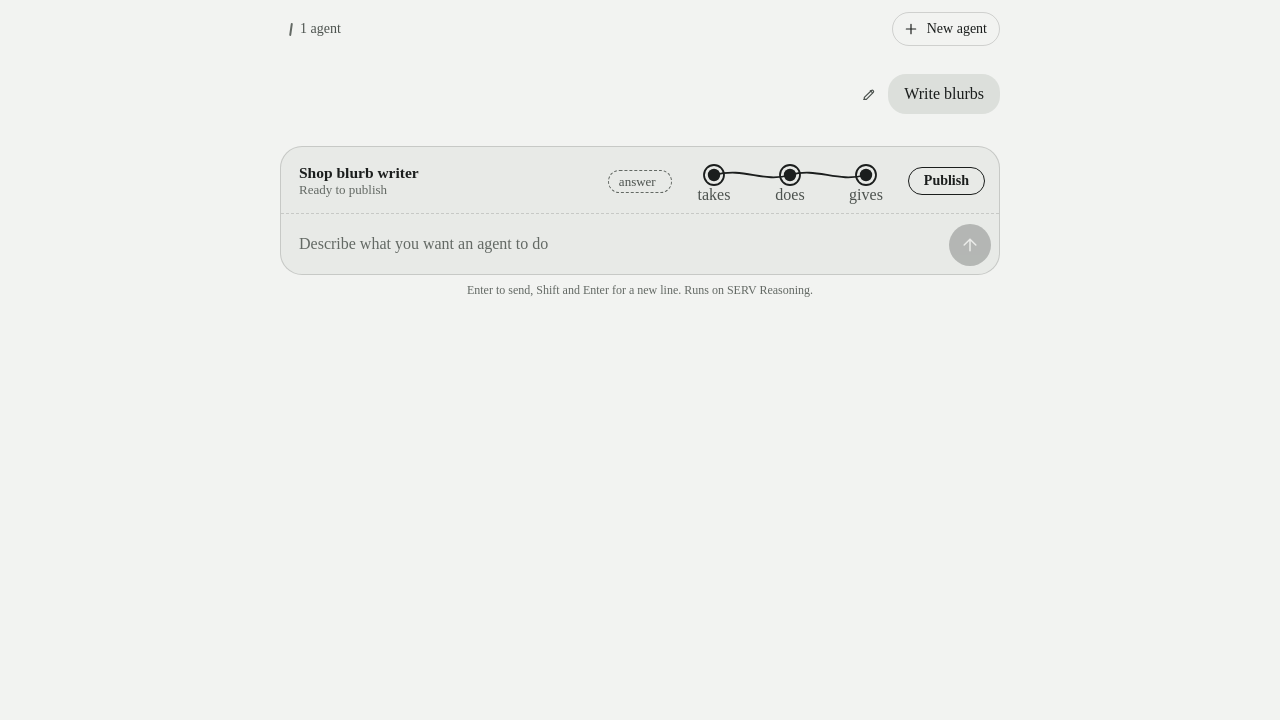
Scenario: publishing from the chat › turns the switch into Publish, confirms on a sheet, and saves the sheet's edits
This screenshot has width=1280, height=720.
Step 1. Click the button "1 agent" → click(315, 29), box [280,15,351,43]
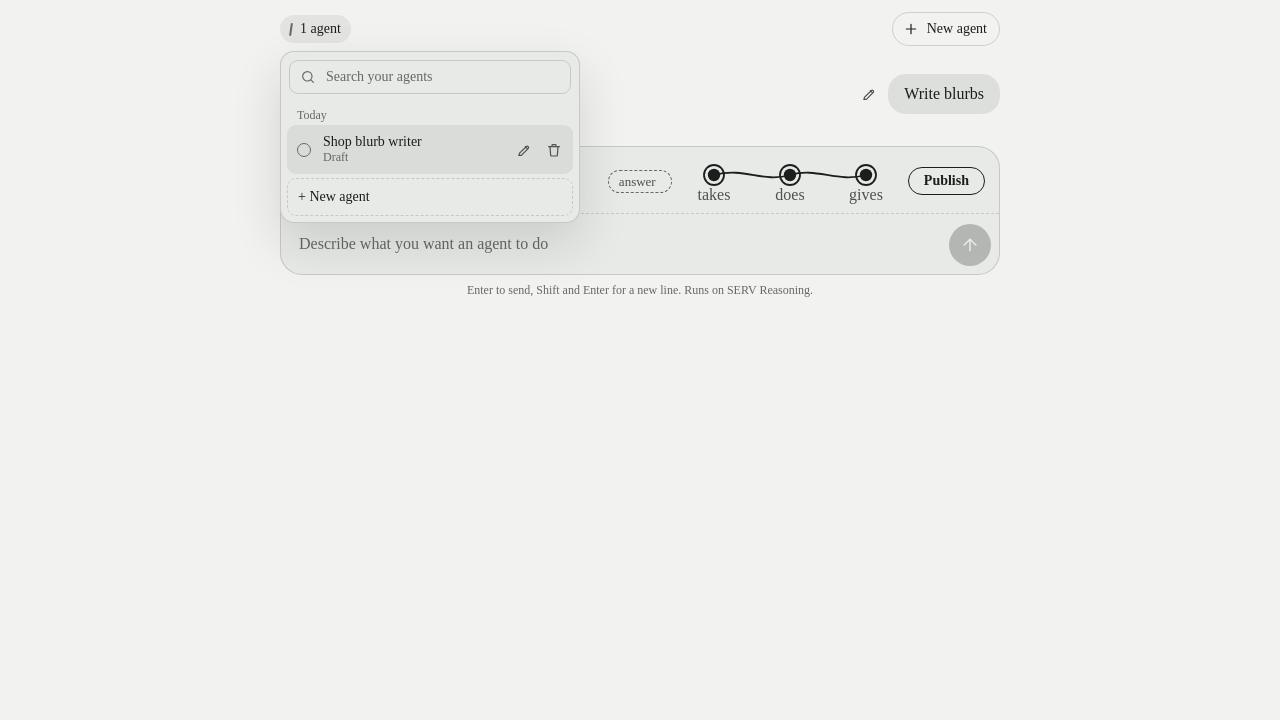
Step 2. Click the button "Shop blurb writer Draft" → click(398, 150), box [287,125,509,174]
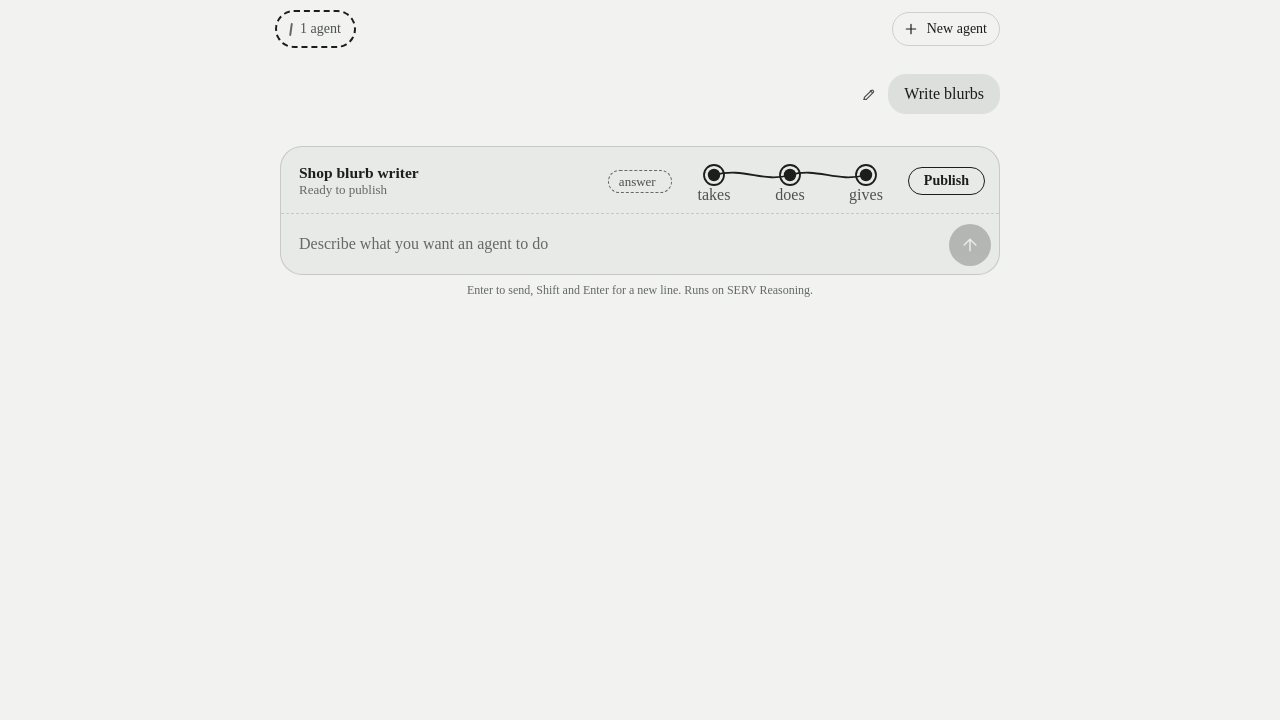
Check: the text "Ready to publish" is shown, box [299,182,387,198]
Step 3. Click the button "Publish" → click(946, 181), box [908,167,985,195]
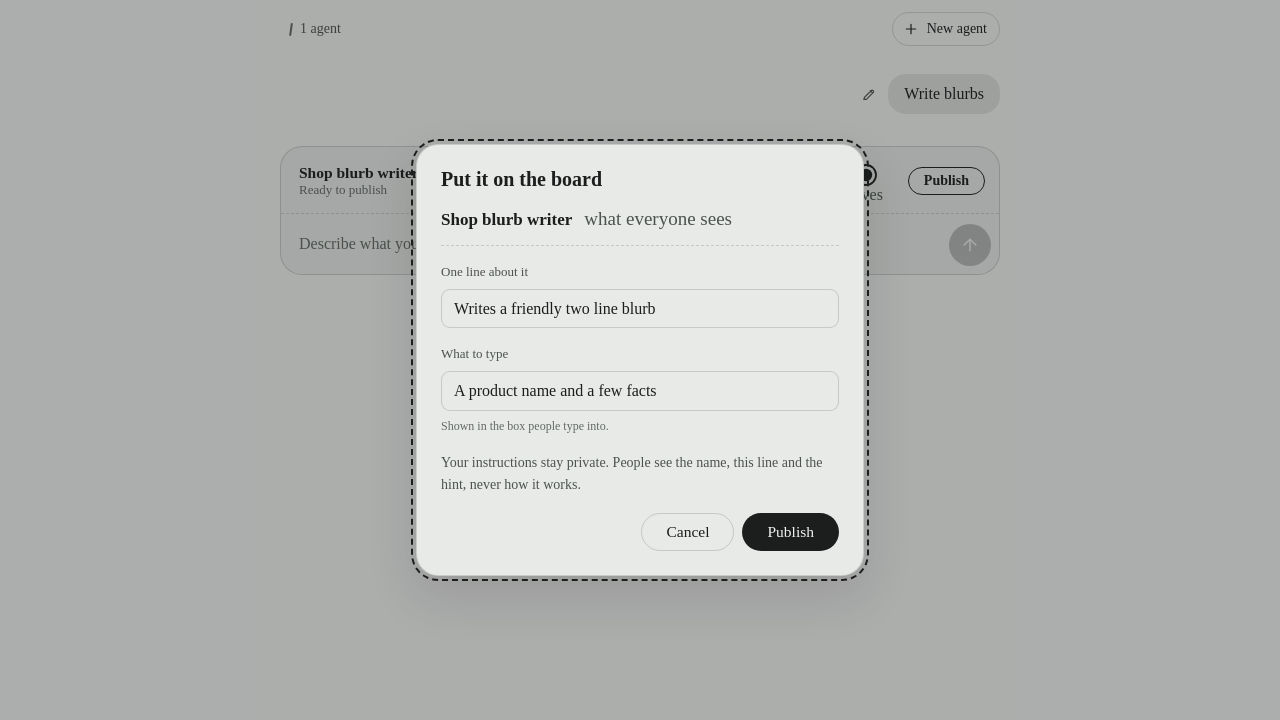
Check: the text "Shop blurb writer" is shown, box [441,206,572,233]
Check: the field labelled "One line about it" holds "Writes a friendly two line blurb"
Check: the field labelled "What to type" holds "A product name and a few facts", box [441,371,839,411]
Step 4. Replace the text in the field labelled "One line about it" with "Warm blurbs" → (640, 309), box [441,289,839,328]
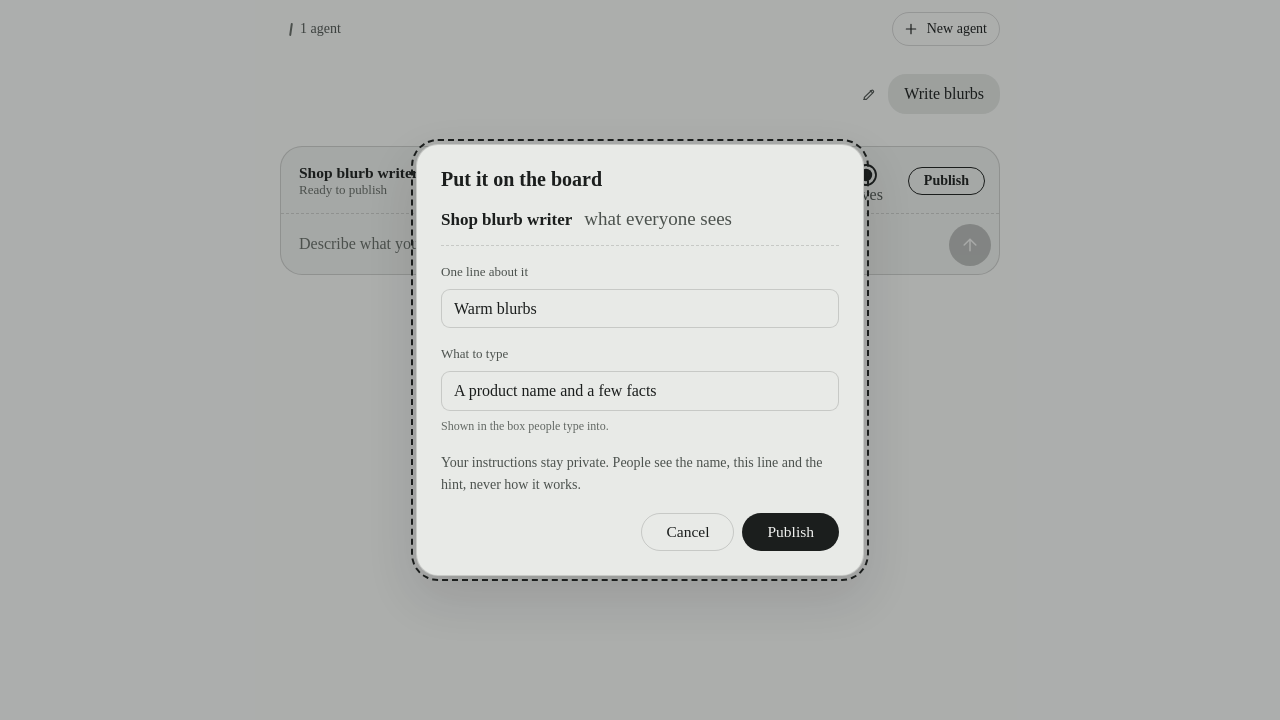
Step 5. Replace the text in the field labelled "What to type" with "A product and a few facts" → (640, 391), box [441,371,839,411]
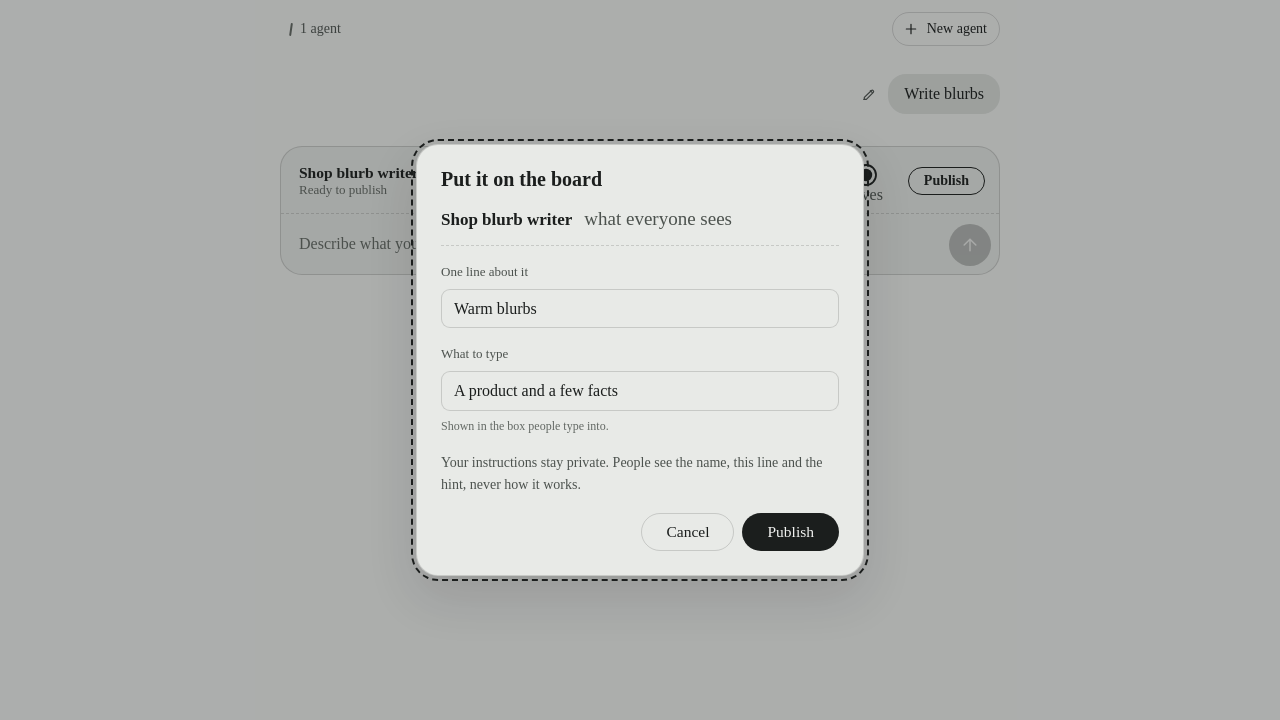
Step 6. Click the button "Publish" → click(791, 532), box [742,513,839,551]
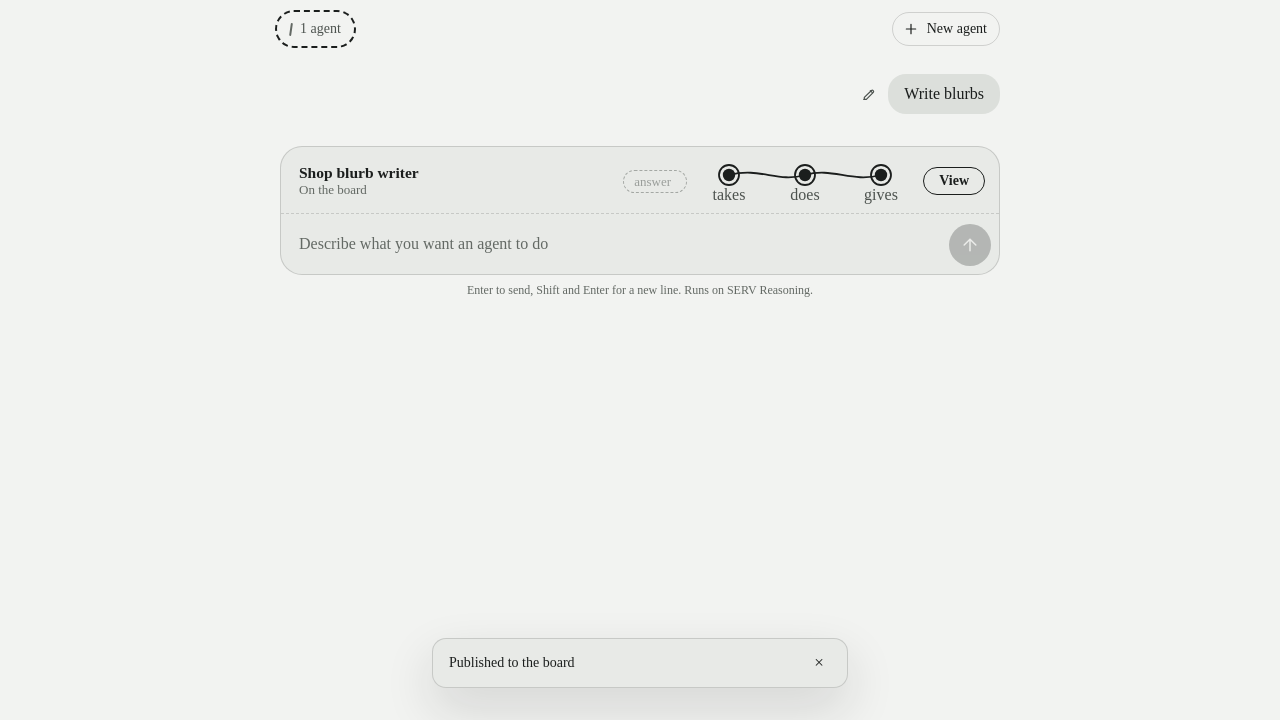
Check: the dialog is gone
Check: the text "On the board" is shown, box [299,182,367,198]
